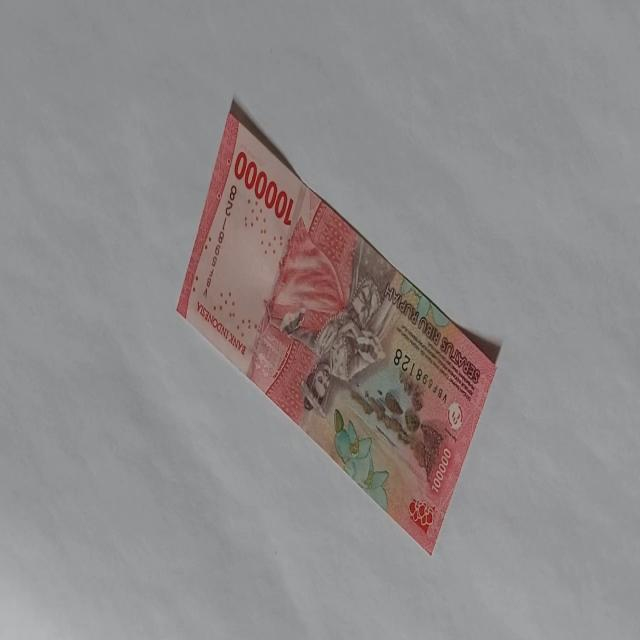seratus ribu rupiah: (176, 105, 498, 556)
